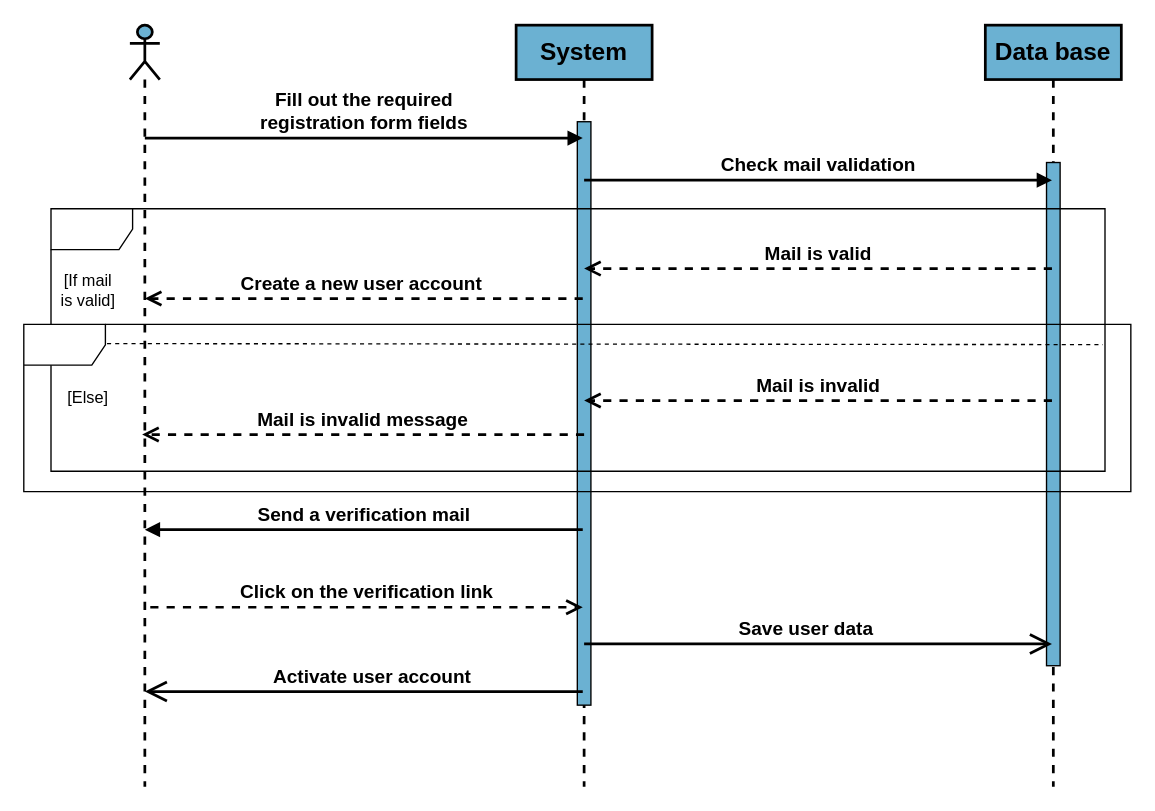
This 1155x811 diagram has some shape labels left out. The shapes that lost their labels are listed below. From the top down, each one's box as (x1, y1, x2, y2) in pixels, then its label:
(50, 207, 1105, 471): Alt
(22, 323, 1131, 492): Loop
